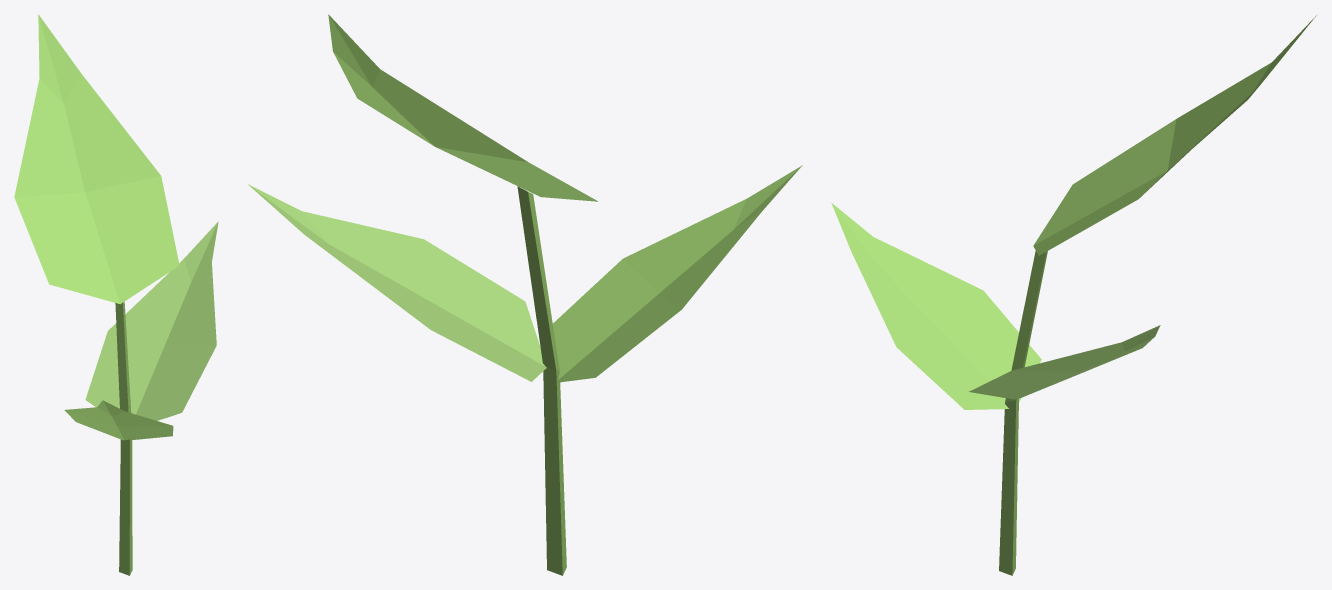
The model's file is Plant_f_OneS_03.fbx.
3 views of the same model, side by side, from view 1: azimuth 30°, elevation 25°; view 2: azimuth 150°, elevation 25°; view 3: azimuth 270°, elevation 25° (orthographic). The views are drawn at different scales.
Parts seen in each view (by area): view 1: Plant_f_OneS_03; view 2: Plant_f_OneS_03; view 3: Plant_f_OneS_03.
Part boxes in pixels (x1,y1,x2,y2): Plant_f_OneS_03: (14, 14, 218, 575); Plant_f_OneS_03: (248, 14, 802, 575); Plant_f_OneS_03: (831, 15, 1316, 575).
Size of the model in its own units: 27.73 by 49.41 by 37.66.
